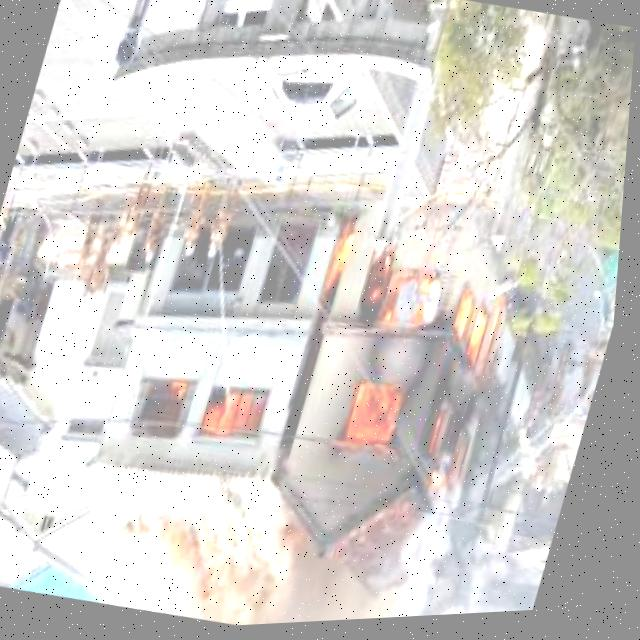Fire: (263, 197, 551, 527), (129, 361, 278, 448)
Smoke: (59, 442, 450, 636)
